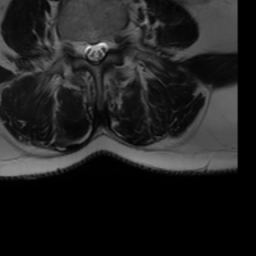CCS_stenosis: (92, 36, 100, 68)
LFS_normal: (109, 24, 119, 61)
LLS_normal: (100, 32, 109, 61)
RFS_normal: (75, 32, 83, 65)
RLS_normal: (83, 36, 92, 65)
